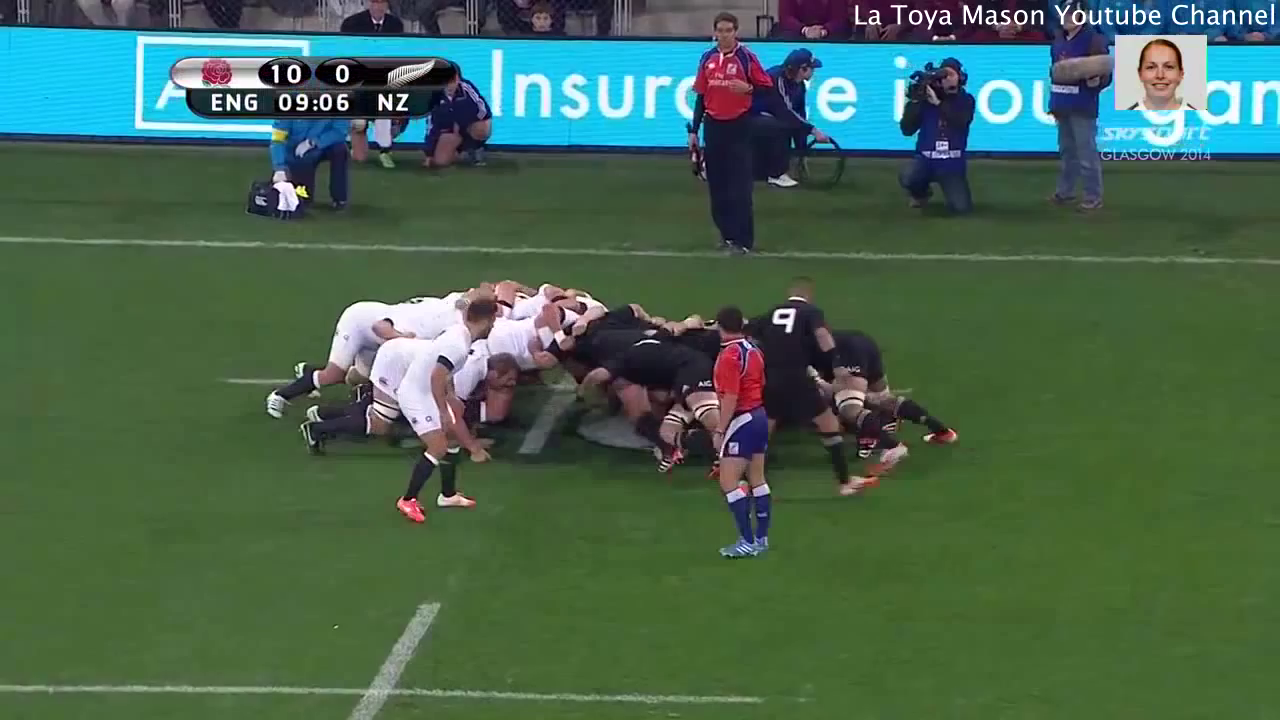player: (727, 254, 868, 504), (688, 291, 791, 575), (385, 287, 502, 534), (256, 286, 453, 428), (805, 311, 973, 468), (293, 348, 519, 459), (598, 336, 732, 476)
scrum: (261, 272, 977, 480)
